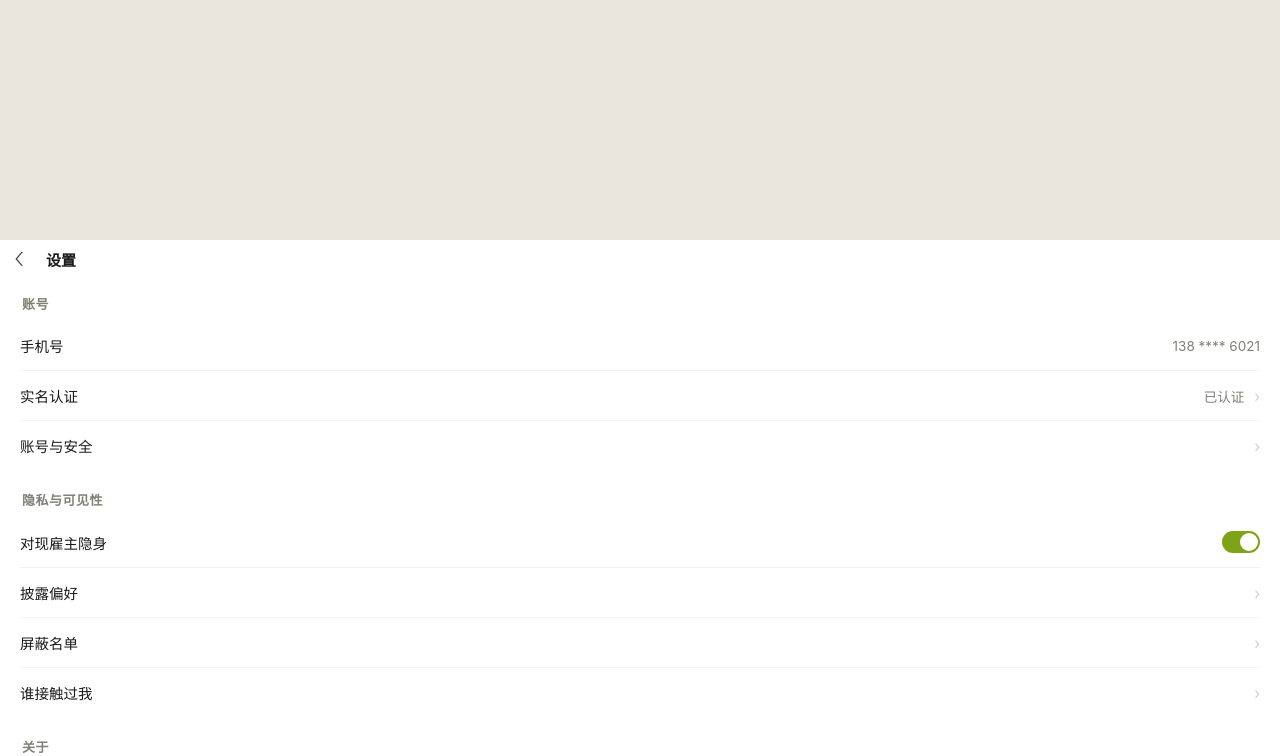
设置 · 实名状态真相源 › Mock 保留演示已认证与原点击提示，且零实名请求
(page scrolled)
Click the button "实名认证 已认证 ›" at (49, 396), box [20,371,1260,421]
(page scrolled)
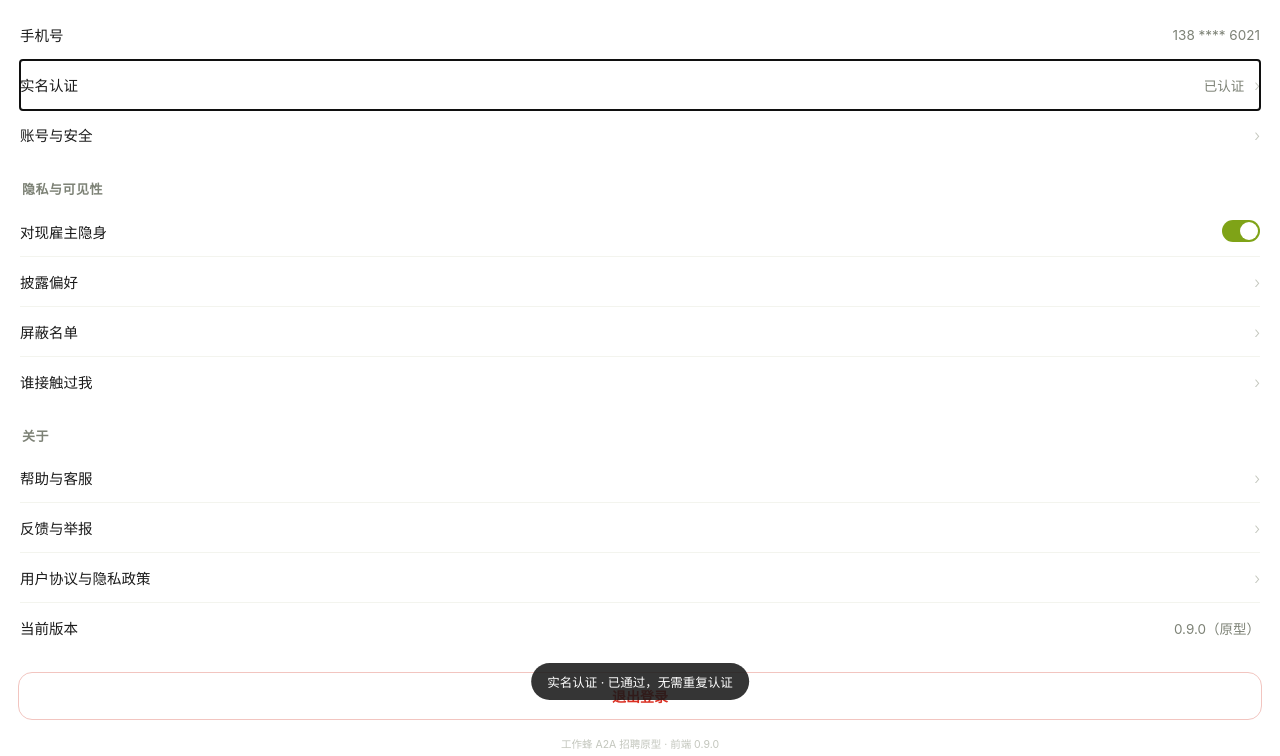
Result: the text "实名认证 · 已通过，无需重复认证" is shown at [531,663,749,700]
